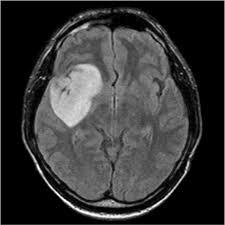Tumour-Meningioma: (48, 62, 112, 140)
